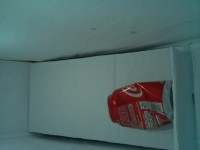kaleng: (107, 81, 172, 129)
